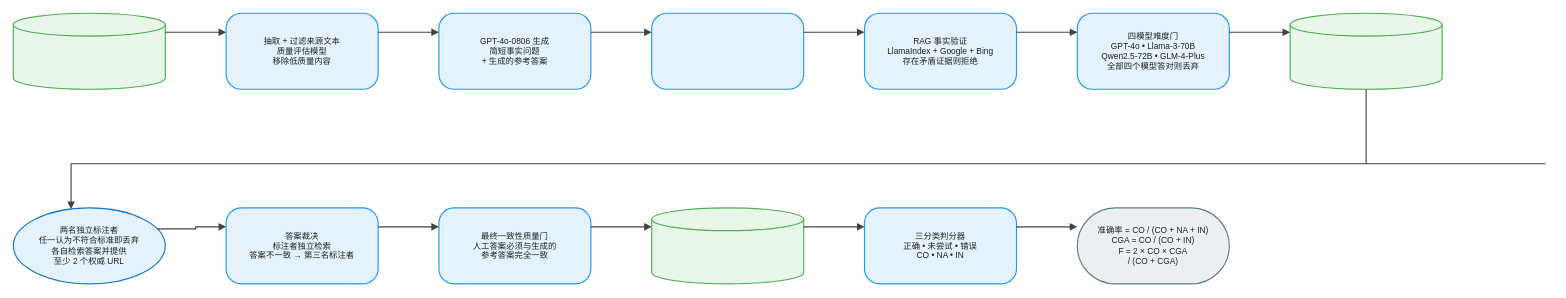
Some shapes in this 1566 by 298 pixel diagram are drawn without their labels. The box of each missing label's shape, as (x1, y1, x2, y2) in pixels:
Chinese SimpleQA 3,000 道中文问题 人工验证最终集: (651, 207, 804, 284)
GPT-4o-0806 标准检查 客观 • 唯一 • 不随时间变化 • 有挑战性 截至 2023-12-31 可回答: (651, 12, 804, 90)
知识密集型中文内容 6 个一级主题 • 99 个子主题 维基百科及其他知识领域: (12, 12, 166, 90)
论文报告的候选缩减账目 10,000 → 难度筛后约 6,310 规则 + RAG 再移除 2,840 约 3,470 进入人工复核: (1289, 12, 1442, 90)
